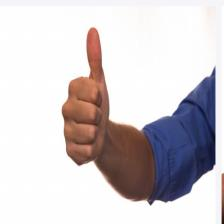five: (60, 25, 110, 173)
